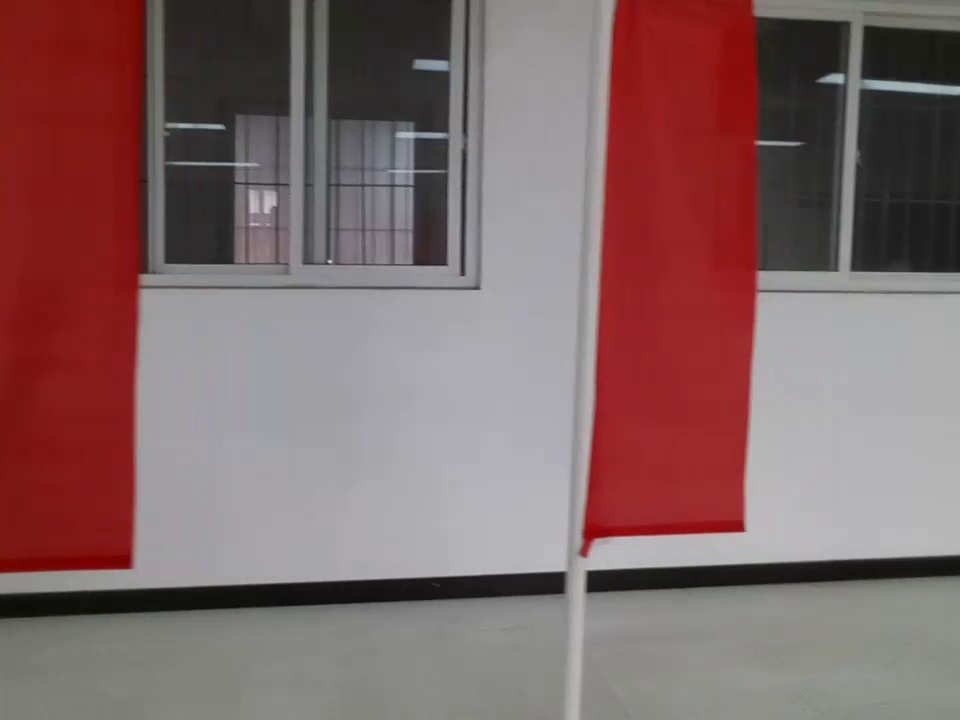qi: (570, 1, 757, 542), (1, 1, 143, 572)
